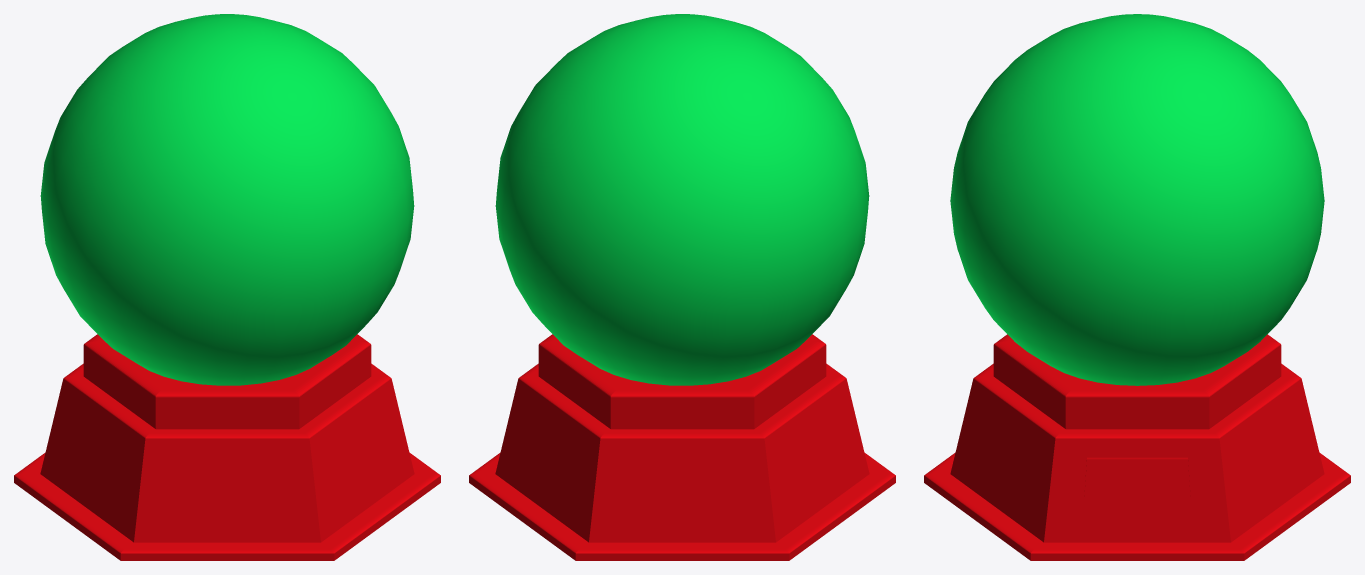
Rendered from Magic-Orb.fbx.
The picture shows the model from 3 angles, left to right: view 1: azimuth 30°, elevation 25°; view 2: azimuth 150°, elevation 25°; view 3: azimuth 270°, elevation 25°; orthographic projection.
Visible parts, largest first — view 1: Orb, Orb-Base; view 2: Orb, Orb-Base; view 3: Orb, Orb-Base.
Part boxes in pixels (<box>): Orb: <box>40,14,414,385</box>; Orb-Base: <box>14,334,440,560</box>; Orb: <box>495,14,869,385</box>; Orb-Base: <box>469,334,895,560</box>; Orb: <box>950,14,1324,385</box>; Orb-Base: <box>924,334,1350,560</box>.
Bounding box in the file's own units: 200 × 266 × 228.
